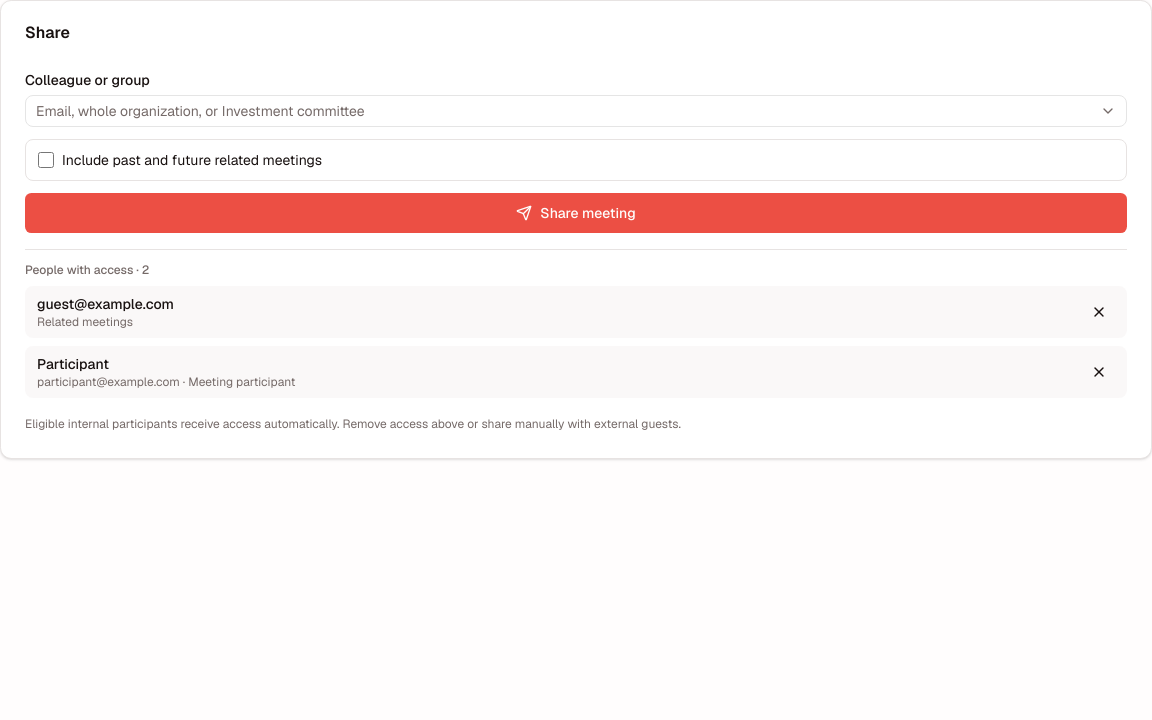
Test: ShareDialog interactions › revokes a related policy before removing current meeting access
Step 1. Click the button named "Remove guest@example.com" → (1099, 312), box x1=1083 y1=296 x2=1115 y2=328
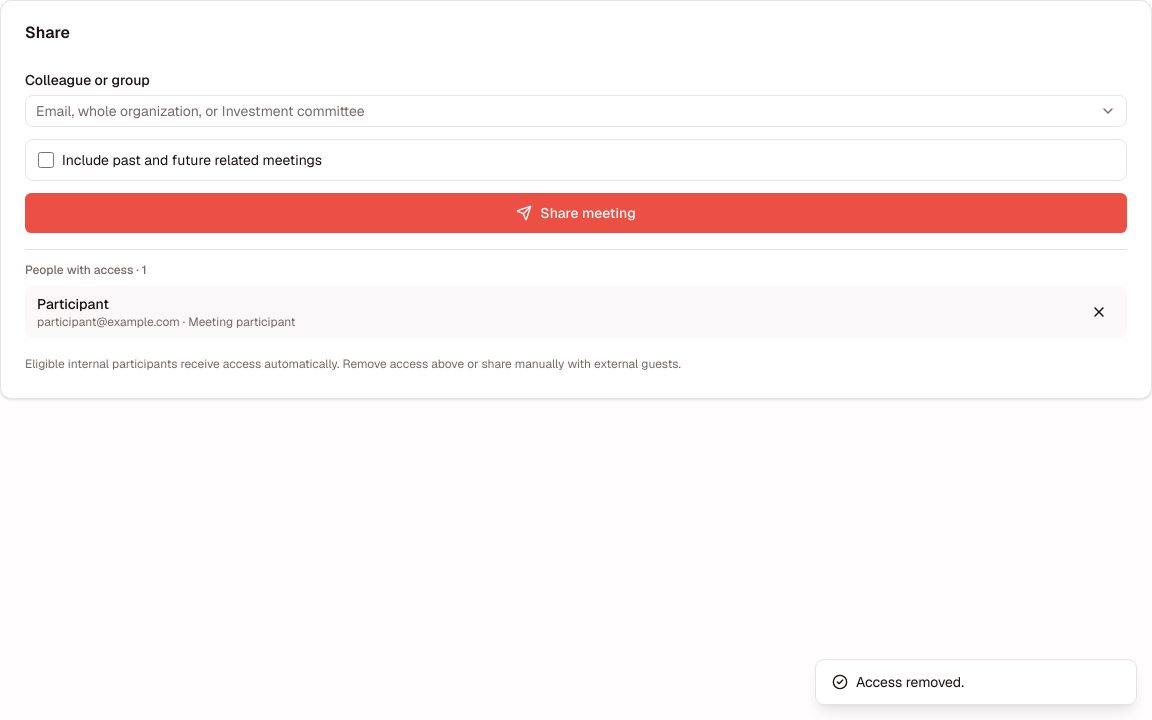
Check: the text "Access removed." is shown, box x1=856 y1=672 x2=964 y2=692
